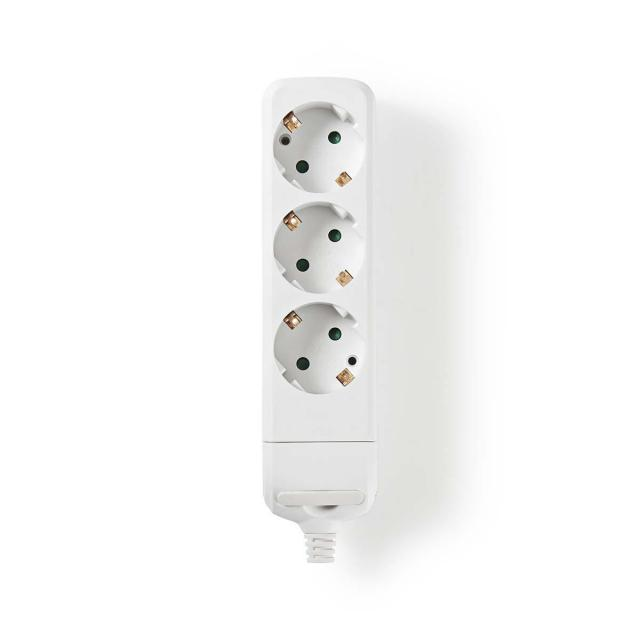typeb: (231, 55, 415, 560)
